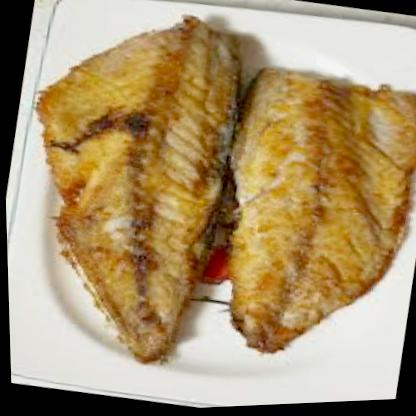grilled mackerel: (34, 2, 257, 371), (204, 55, 415, 385)
